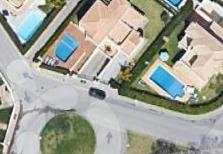pool: (149, 64, 187, 99), (54, 32, 80, 62)
